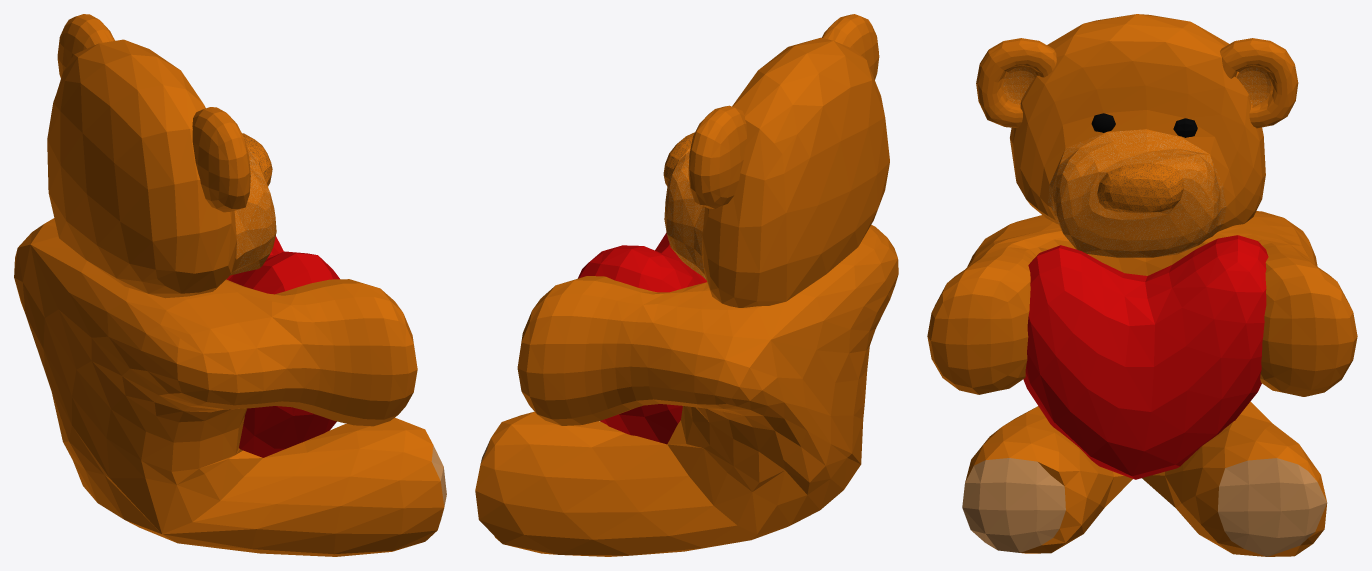
Rendered from teddy.FBX.
3 views of the same model, side by side, from view 1: azimuth 30°, elevation 25°; view 2: azimuth 150°, elevation 25°; view 3: azimuth 270°, elevation 25° (orthographic). The views are drawn at different scales.
Visible parts, largest first — view 1: group_2; view 2: group_2; view 3: group_2.
Boxes of the visible parts, bbox=[...] form: group_2: bbox=[14, 14, 446, 556]; group_2: bbox=[475, 14, 898, 556]; group_2: bbox=[927, 14, 1357, 556].
Size of the model in its own units: 2.27 by 3.75 by 3.25.
